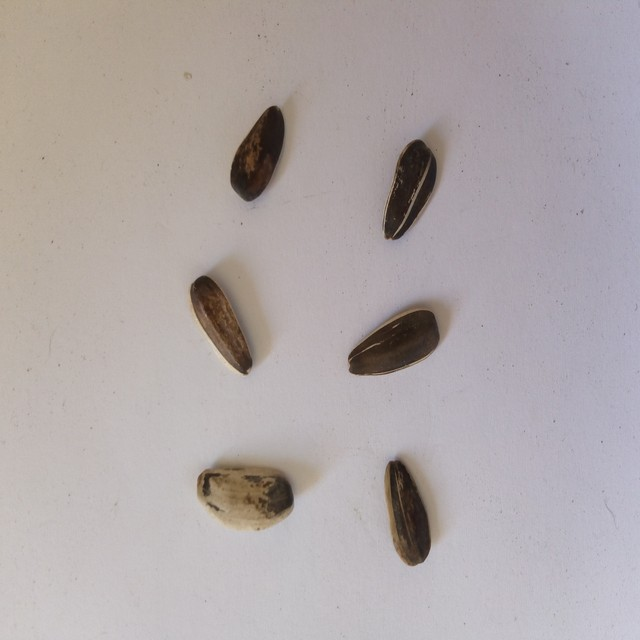girasol: (340, 301, 445, 391), (375, 455, 445, 580), (188, 459, 303, 535), (181, 268, 261, 377), (375, 133, 442, 247), (226, 99, 292, 206)
